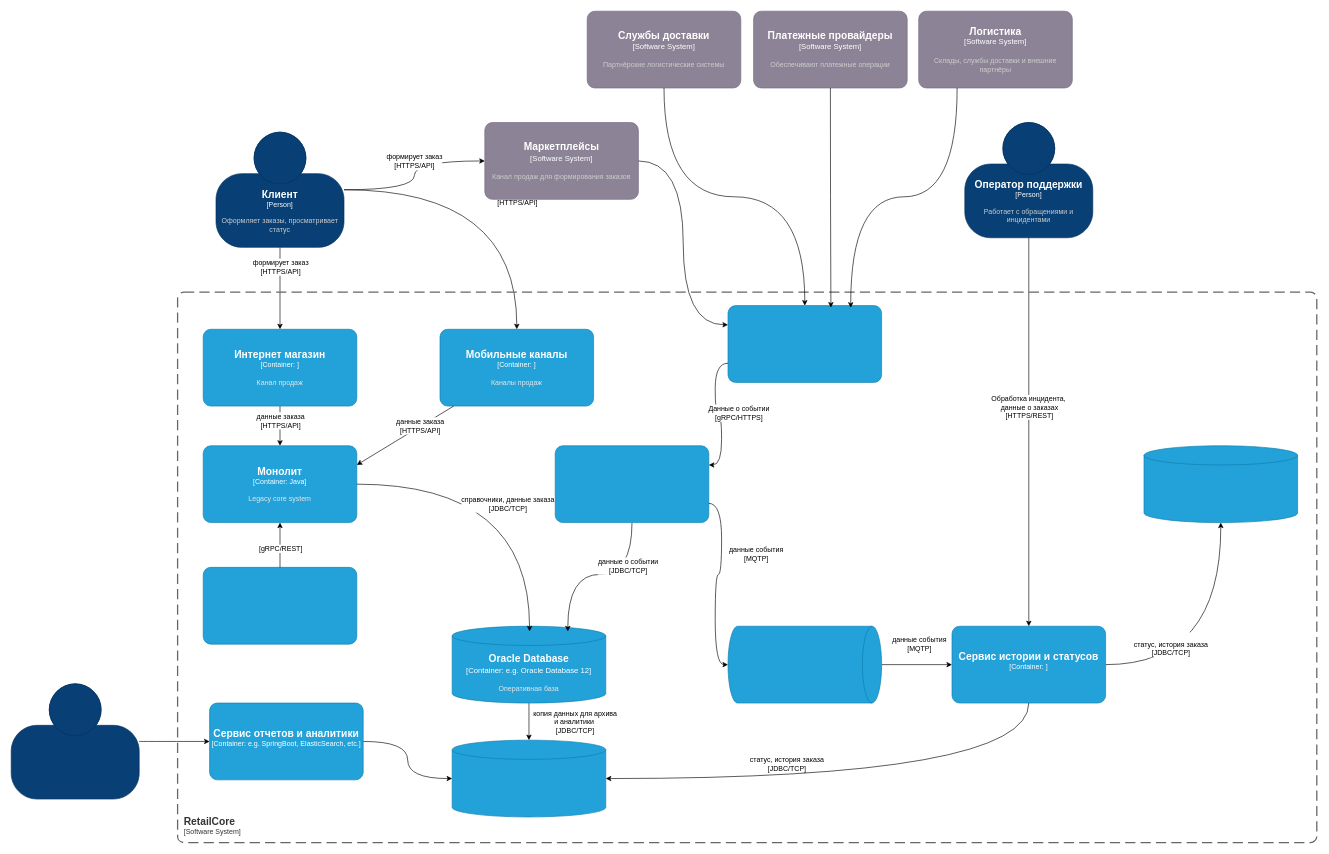
This 1329x854 diagram has some shape labels left out. Here are the shapes that lost their labels. From the top down, the centre of each, then its label:
At (x=804, y=343): "gateway [Container: ] integration layer".
At (x=632, y=484): "Издатель событий [Container: ] Оркестратор".
At (x=1220, y=484): "Модель статусов и истории [Container: e.g. Oracle Database 12]".
At (x=280, y=605): "Промо-сервис [Container: ] Расчет скидок и промо".
At (x=804, y=664): "Брокер сообщений [Container: e.g. Apache Kafka, etc.]".
At (x=75, y=741): "Бизнес пользователи [Person] Работа с управленческими отчетами".
At (x=529, y=778): "Архивные данные [Container: e.g. Oracle Database 12]".
